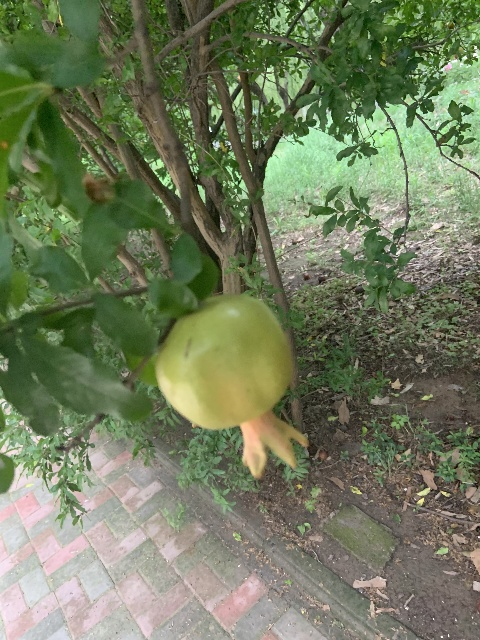mid-growth: (155, 294, 310, 480)
